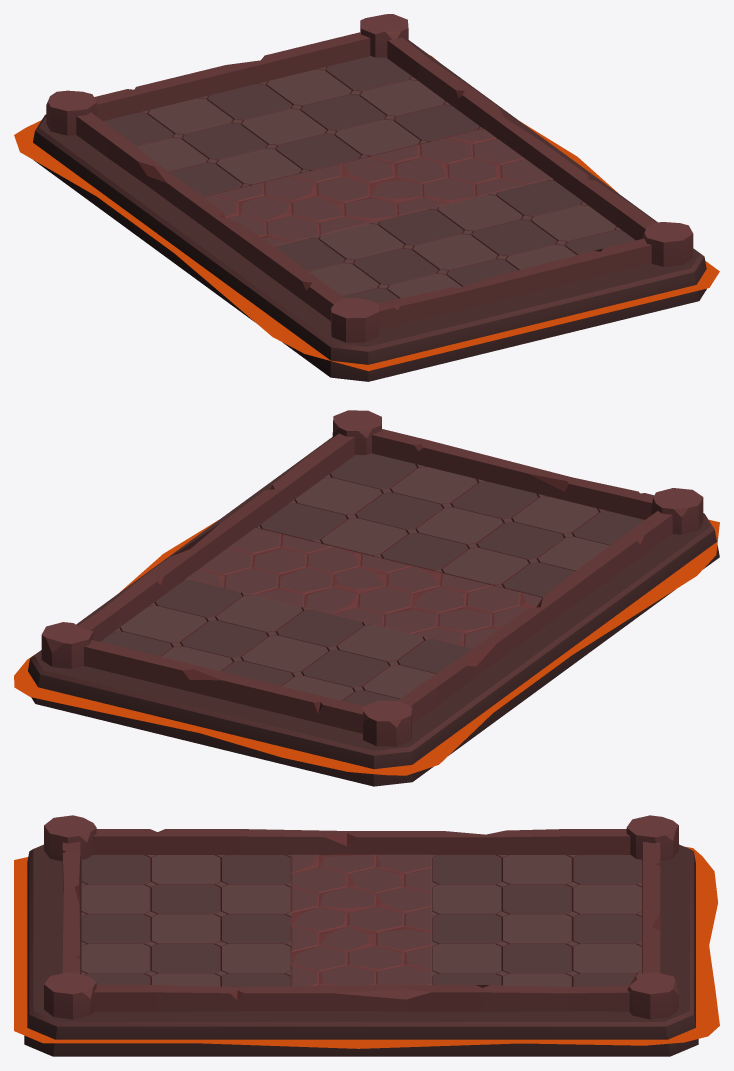
The picture shows the model from 3 angles, top to bottom: view 1: azimuth 30°, elevation 25°; view 2: azimuth 150°, elevation 25°; view 3: azimuth 270°, elevation 25°; orthographic projection. The views are drawn at different scales.
Parts seen in each view (by area): view 1: Map04_Platform; view 2: Map04_Platform; view 3: Map04_Platform.
Part boxes in pixels (box(x1,y1,x2,y2)): Map04_Platform: box(14, 14, 719, 381); Map04_Platform: box(14, 410, 719, 786); Map04_Platform: box(14, 815, 719, 1056).
Size of the model in its own units: 13.96 by 1.78 by 20.09.
1 material, 1 textured.
